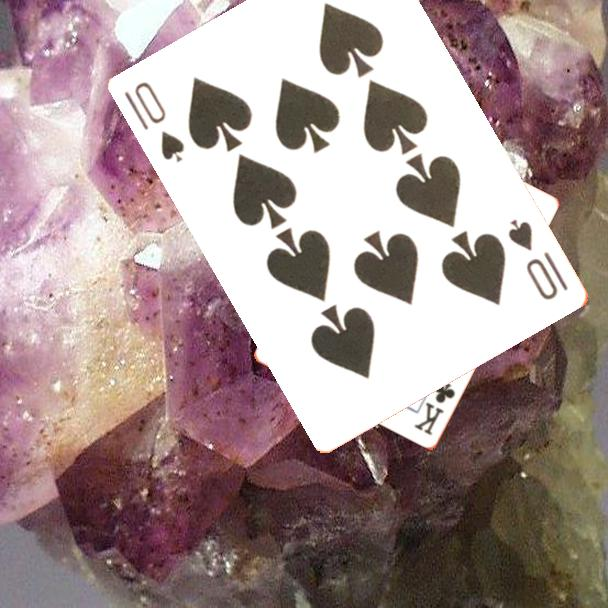c13: (411, 379, 458, 439)
s10: (505, 215, 572, 303), (121, 78, 188, 166)
